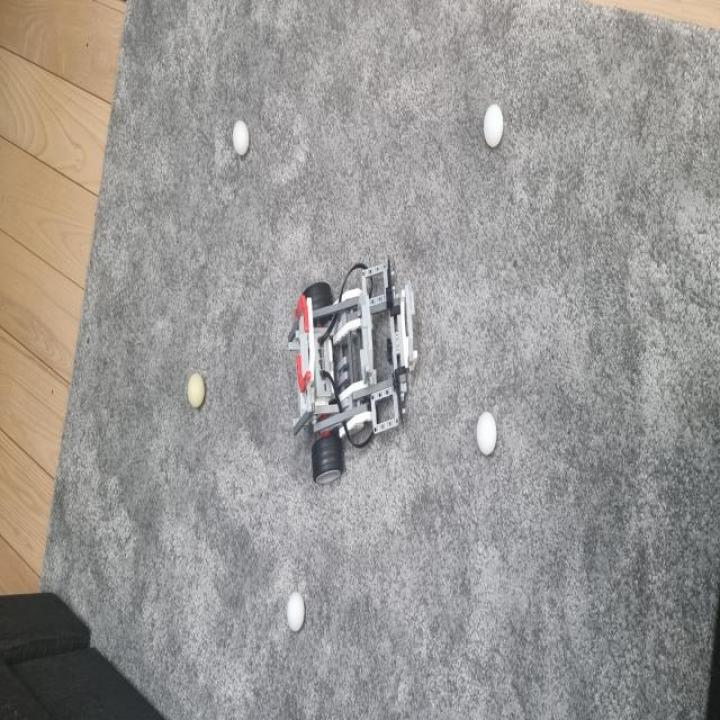robot: (287, 252, 418, 485)
white: (484, 103, 503, 150), (286, 590, 306, 633), (477, 412, 497, 454), (233, 120, 250, 156), (188, 374, 205, 409)
